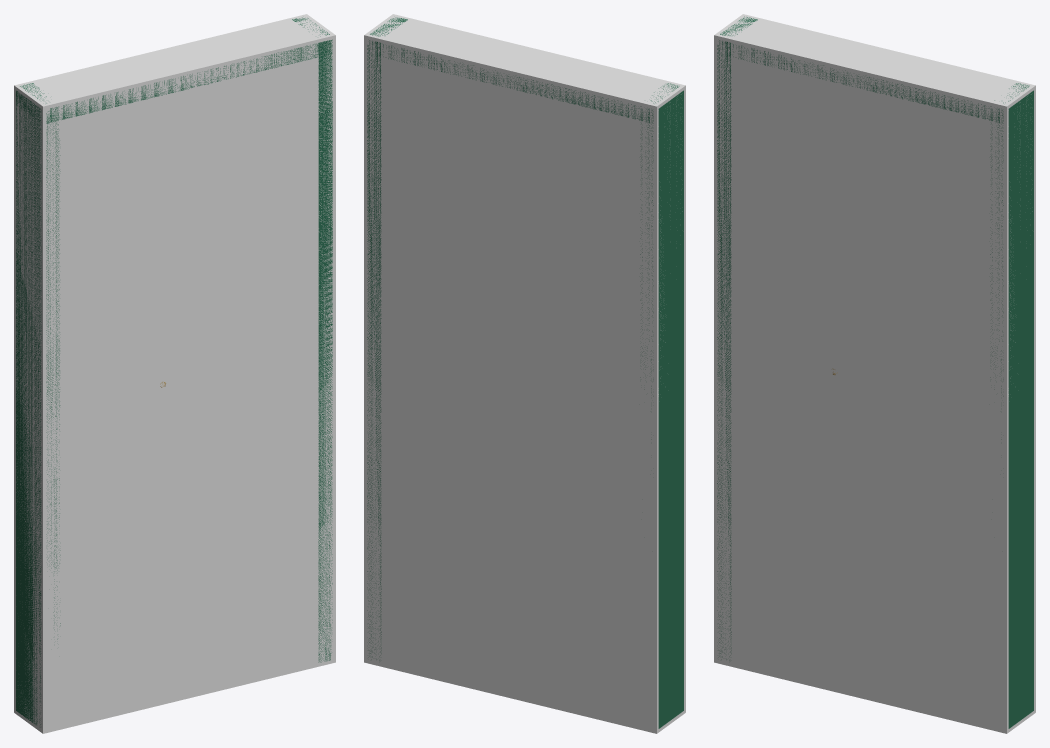
The model's file is exterior-door_luxury.glb.
The picture shows the model from 3 angles, left to right: view 1: azimuth 30°, elevation 25°; view 2: azimuth 150°, elevation 25°; view 3: azimuth 330°, elevation 25°; orthographic projection.
Visible parts, largest first — view 1: COL_exterior-door, MESH_FrameSide, MESH_FrameSide.001, MESH_FrameTop; view 2: COL_exterior-door, MESH_FrameSide, MESH_FrameSide.001, MESH_FrameTop; view 3: COL_exterior-door, MESH_FrameSide.001, MESH_FrameSide, MESH_FrameTop.
Part boxes in pixels (box(x1,y1,x2,y2)): COL_exterior-door: box(14, 14, 335, 733); MESH_FrameSide: box(16, 83, 60, 727); MESH_FrameSide.001: box(292, 17, 332, 662); MESH_FrameTop: box(16, 42, 328, 123); COL_exterior-door: box(364, 14, 685, 733); MESH_FrameSide: box(640, 83, 683, 728); MESH_FrameSide.001: box(367, 17, 407, 660); MESH_FrameTop: box(368, 41, 664, 123); COL_exterior-door: box(714, 14, 1035, 733); MESH_FrameSide.001: box(990, 83, 1033, 728); MESH_FrameSide: box(717, 16, 757, 660); MESH_FrameTop: box(718, 41, 1014, 123).
Bounding box in the file's own units: 1.05 × 2.15 × 0.18.
